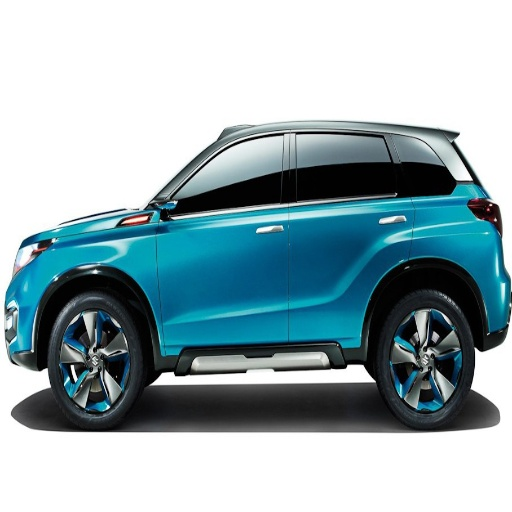back_left_door: (291, 131, 413, 340)
front_left_door: (159, 131, 291, 343)
